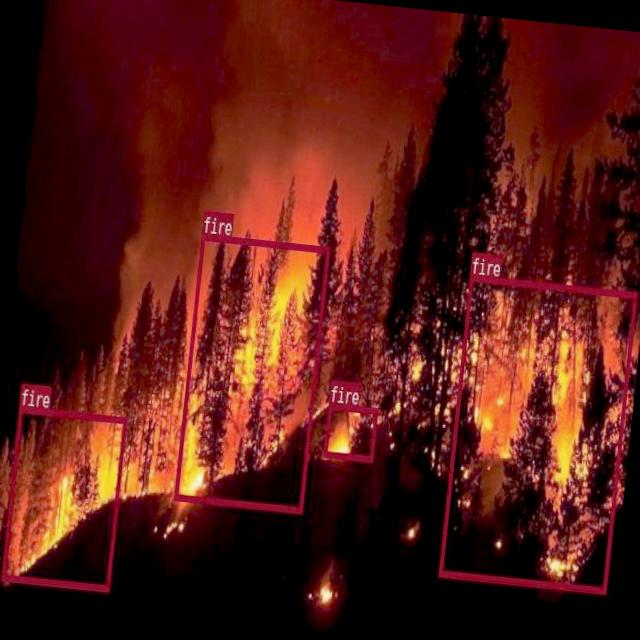fire: (438, 274, 636, 592), (173, 232, 329, 511), (0, 405, 126, 589), (322, 401, 377, 461)
